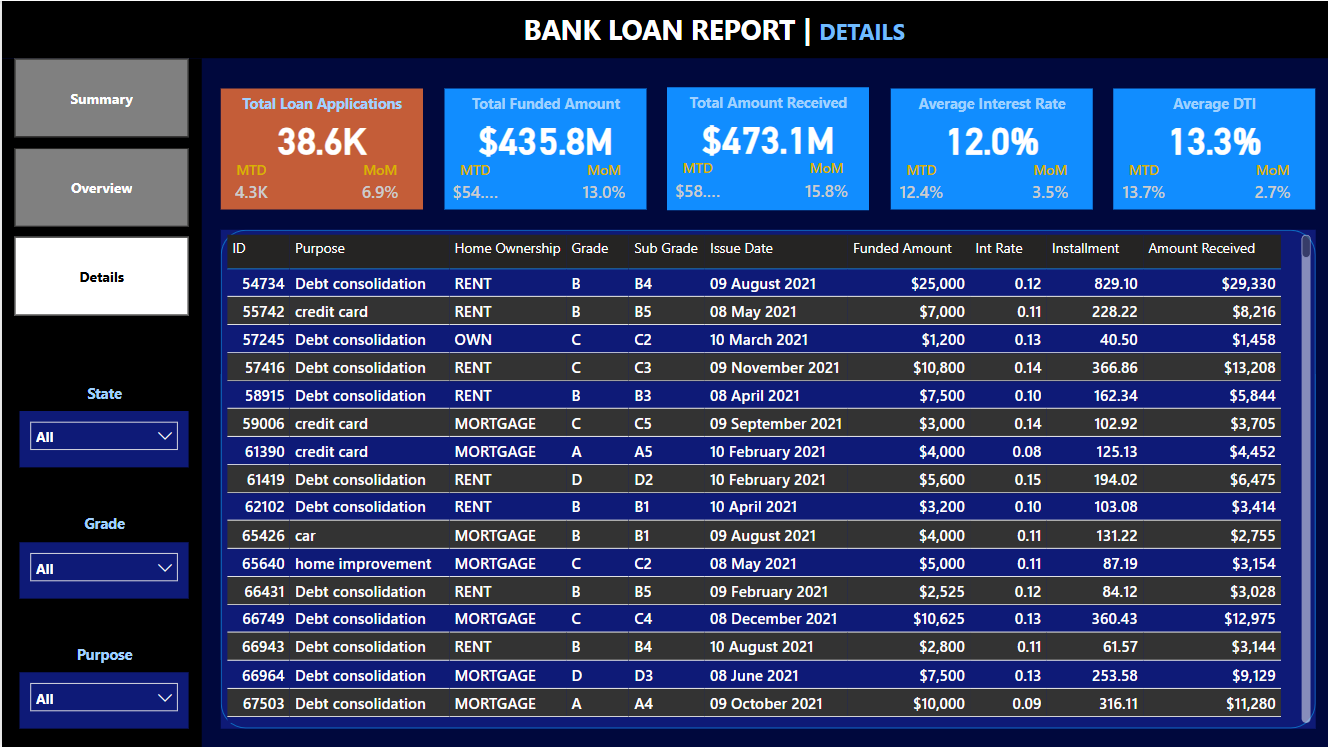

The page's visual inventory and layout, read from the dashboard file:
{"tool":"powerbi","page":{"name":"Details","canvas":[1280,720],"ordinal":2},"visuals":[{"type":"shape","box":[0,55.5,193,664.7],"z":0},{"type":"shape","box":[211.1,84.3,195.4,117],"z":0,"group":"g1"},{"type":"card","fields":{"Values":["public bankloan1.Total Amount Received"]},"box":[641.8,99.4,195.4,65.1],"z":1000,"group":"g3"},{"type":"card","fields":{"Values":["public bankloan1.TOTAL LOAN APPLICATIONS"]},"box":[211.1,100,195.4,65.1],"z":1000,"group":"g1"},{"type":"card","fields":{"Values":["public bankloan1.Total Funded Amount"]},"box":[426.5,100,195.4,65.1],"z":1000,"group":"g2"},{"type":"card","fields":{"Values":["public bankloan1.Avg Int Rate"]},"box":[857.2,100,195.4,65.1],"z":1000,"group":"g4"},{"type":"card","fields":{"Values":["public bankloan1.Averagae DTI"]},"box":[1072.5,100,195.4,65.1],"z":1000,"group":"g5"},{"type":"shape","box":[211.1,220.8,1056.8,481.4],"z":1000},{"type":"shape","box":[0,0,1280,55.5],"z":2000},{"type":"textbox","box":[641.8,83.7,195.4,31.4],"z":2000,"group":"g3"},{"type":"textbox","box":[211.1,84.3,195.4,31.4],"z":2000,"group":"g1"},{"type":"textbox","box":[426.5,84.3,195.4,31.4],"z":2000,"group":"g2"},{"type":"textbox","box":[857.2,84.3,195.4,31.4],"z":2000,"group":"g4"},{"type":"textbox","box":[1072.5,84.3,195.4,31.4],"z":2000,"group":"g5"},{"type":"card","title":"MTD","fields":{"Values":["public bankloan1.MTD Amount Received"]},"box":[641.8,152.5,59.1,48.3],"z":3000,"group":"g3"},{"type":"card","title":"MTD","fields":{"Values":["public bankloan1.MTD Loan Applications"]},"box":[211.1,153.1,59.1,48.3],"z":3000,"group":"g1"},{"type":"card","title":"MTD","fields":{"Values":["public bankloan1.MTD Funded Amount"]},"box":[426.5,153.1,59.1,48.3],"z":3000,"group":"g2"},{"type":"card","title":"MTD","fields":{"Values":["public bankloan1.MTD Average Interest Rate"]},"box":[857.2,153.1,59.1,48.3],"z":3000,"group":"g4"},{"type":"card","title":"MTD","fields":{"Values":["public bankloan1.MTD Average DTI Rate"]},"box":[1072.5,153.1,59.1,48.3],"z":3000,"group":"g5"},{"type":"textbox","box":[22.9,364.3,152,31.4],"z":3000},{"type":"textbox","box":[498.3,3.6,483.8,47.1],"z":4000},{"type":"card","title":"MoM","fields":{"Values":["public bankloan1.MoM Amount Received"]},"box":[766.1,152.5,59.1,48.3],"z":4000,"group":"g3"},{"type":"card","title":"MoM","fields":{"Values":["public bankloan1.MoM Loan Applications"]},"box":[335.4,153.1,59.1,48.3],"z":4000,"group":"g1"},{"type":"card","title":"MoM","fields":{"Values":["public bankloan1.MoM Funded Amount"]},"box":[550.8,153.1,59.1,48.3],"z":4000,"group":"g2"},{"type":"card","title":"MoM","fields":{"Values":["public bankloan1.MoM Avg Int Rate"]},"box":[981.5,153.1,59.1,48.3],"z":4000,"group":"g4"},{"type":"card","title":"MoM","fields":{"Values":["public bankloan1.MoM Avg DTI"]},"box":[1196.8,153.1,59.1,48.3],"z":4000,"group":"g5"},{"type":"group","id":"g1","title":"Group 1","box":[211.1,84.3,195.4,117],"z":5000},{"type":"group","id":"g2","title":"Group 1","box":[426.5,84.3,195.4,117],"z":6000},{"type":"group","id":"g3","title":"Group 1","box":[641.8,83.7,195.4,118.2],"z":7000},{"type":"group","id":"g4","title":"Group 1","box":[857.2,84.3,195.4,117],"z":8000},{"type":"group","id":"g5","title":"Group 1","box":[1072.5,84.3,195.4,117],"z":9000},{"type":"slicer","fields":{"Values":["public bankloan1.address_state"]},"box":[17.3,395.2,162.9,54.3],"z":10000},{"type":"slicer","fields":{"Values":["public bankloan1.grade"]},"box":[17.3,522.1,162.9,54.3],"z":11000},{"type":"textbox","box":[22.9,489.8,152,32.6],"z":12000},{"type":"slicer","fields":{"Values":["public bankloan1.purpose"]},"box":[17.3,647.9,162.9,54.3],"z":13000},{"type":"textbox","box":[22.9,616.5,152,31.4],"z":14000},{"type":"tableEx","fields":{"Values":["public bankloan1.id","public bankloan1.purpose","public bankloan1.home_ownership","public bankloan1.grade","public bankloan1.sub_grade","public bankloan1.issue_date","public bankloan1.Total Funded Amount","Sum(public bankloan1.int_rate)","Sum(public bankloan1.installment)","public bankloan1.Total Amount Received"]},"box":[211.1,220.8,1056.8,481.4],"z":16001},{"type":"pageNavigator","box":[12.1,55.5,168.9,250.9],"z":16002}]}

Visuals, with their boxes in screenshot pixels (x1, y1, x2, y2), scaled from the page's 1280x720 canvas onto the 1328x747 screenshot:
shape: box(0, 58, 200, 746)
shape: box(219, 87, 422, 209)
card - public bankloan1.Total Amount Received: box(666, 103, 869, 171)
card - public bankloan1.TOTAL LOAN APPLICATIONS: box(219, 104, 422, 171)
card - public bankloan1.Total Funded Amount: box(442, 104, 645, 171)
card - public bankloan1.Avg Int Rate: box(889, 104, 1092, 171)
card - public bankloan1.Averagae DTI: box(1113, 104, 1315, 171)
shape: box(219, 229, 1315, 729)
shape: box(0, 0, 1327, 58)
textbox: box(666, 87, 869, 119)
textbox: box(219, 87, 422, 120)
textbox: box(442, 87, 645, 120)
textbox: box(889, 87, 1092, 120)
textbox: box(1113, 87, 1315, 120)
"MTD" card: box(666, 158, 727, 208)
"MTD" card: box(219, 159, 280, 209)
"MTD" card: box(442, 159, 504, 209)
"MTD" card: box(889, 159, 951, 209)
"MTD" card: box(1113, 159, 1174, 209)
textbox: box(24, 378, 181, 411)
textbox: box(517, 4, 1019, 53)
"MoM" card: box(795, 158, 856, 208)
"MoM" card: box(348, 159, 409, 209)
"MoM" card: box(571, 159, 633, 209)
"MoM" card: box(1018, 159, 1080, 209)
"MoM" card: box(1242, 159, 1303, 209)
"Group 1" group: box(219, 87, 422, 209)
"Group 1" group: box(442, 87, 645, 209)
"Group 1" group: box(666, 87, 869, 209)
"Group 1" group: box(889, 87, 1092, 209)
"Group 1" group: box(1113, 87, 1315, 209)
slicer - public bankloan1.address_state: box(18, 410, 187, 466)
slicer - public bankloan1.grade: box(18, 542, 187, 598)
textbox: box(24, 508, 181, 542)
slicer - public bankloan1.purpose: box(18, 672, 187, 729)
textbox: box(24, 640, 181, 672)
tableEx - public bankloan1.id x public bankloan1.purpose: box(219, 229, 1315, 729)
pageNavigator: box(13, 58, 188, 318)
